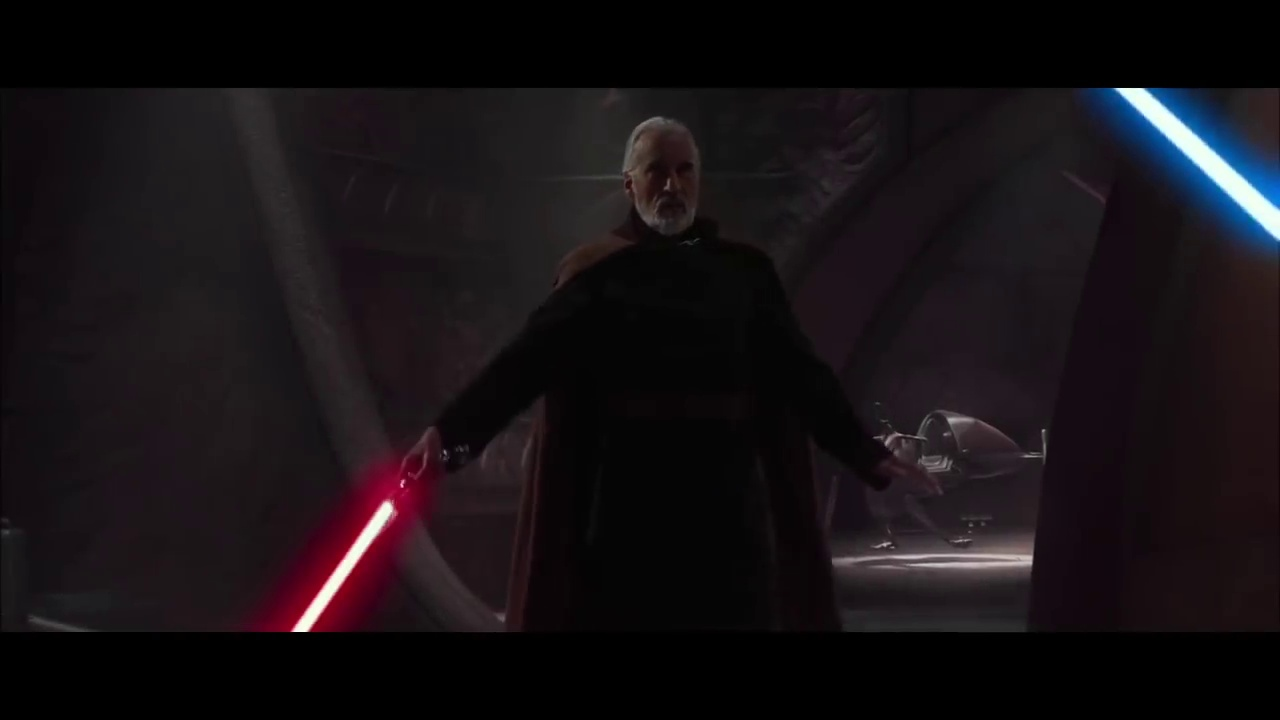lightsaber: (1073, 88, 1280, 248), (288, 466, 420, 630)
